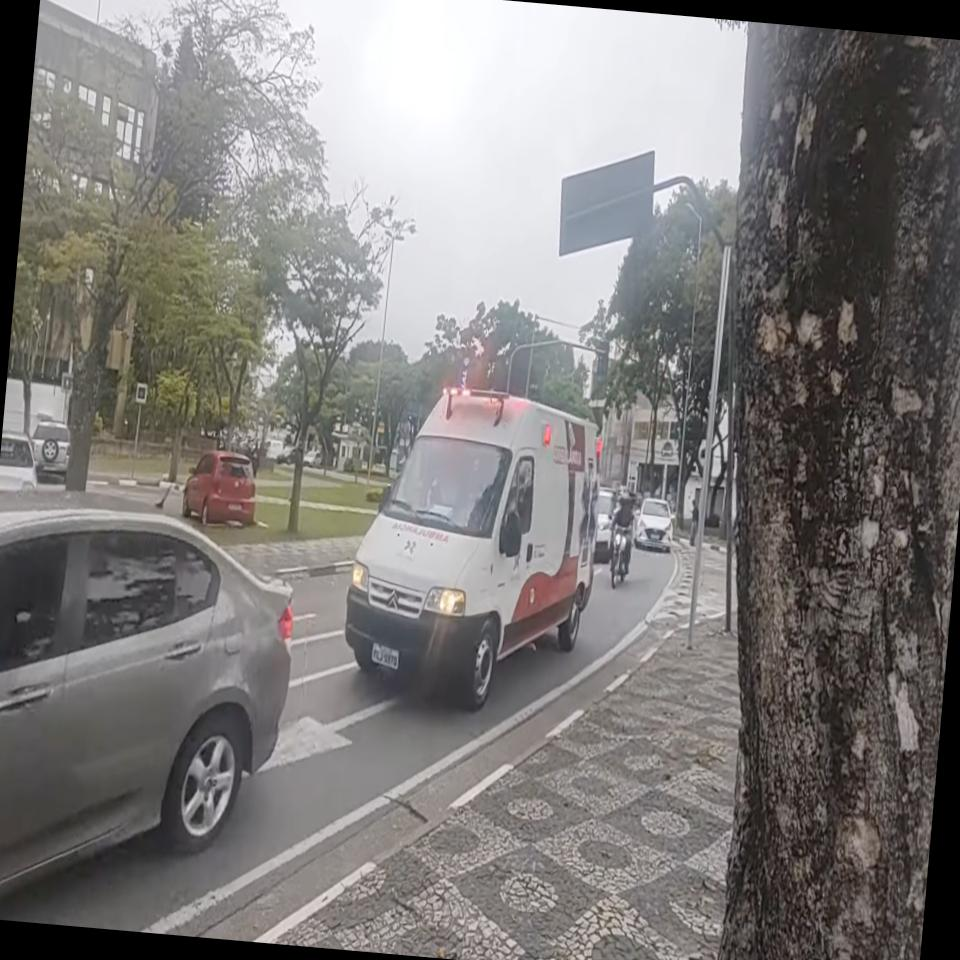bombeiro: (339, 378, 608, 721)
